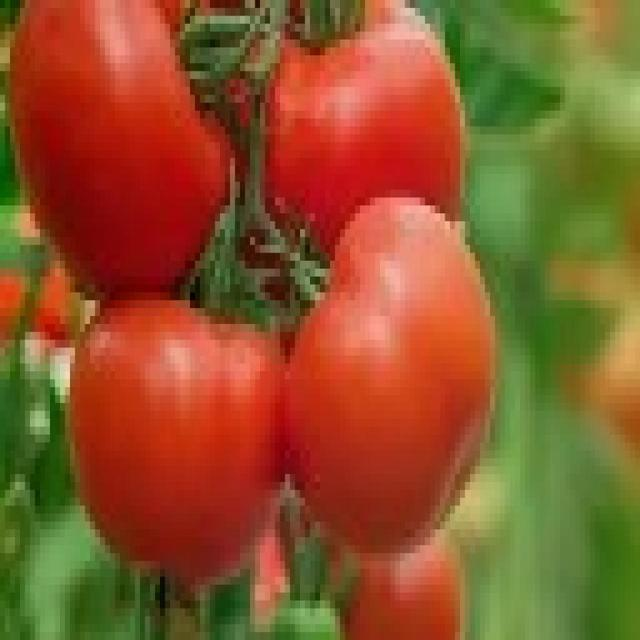Healthy Fruit: (77, 54, 271, 396)
